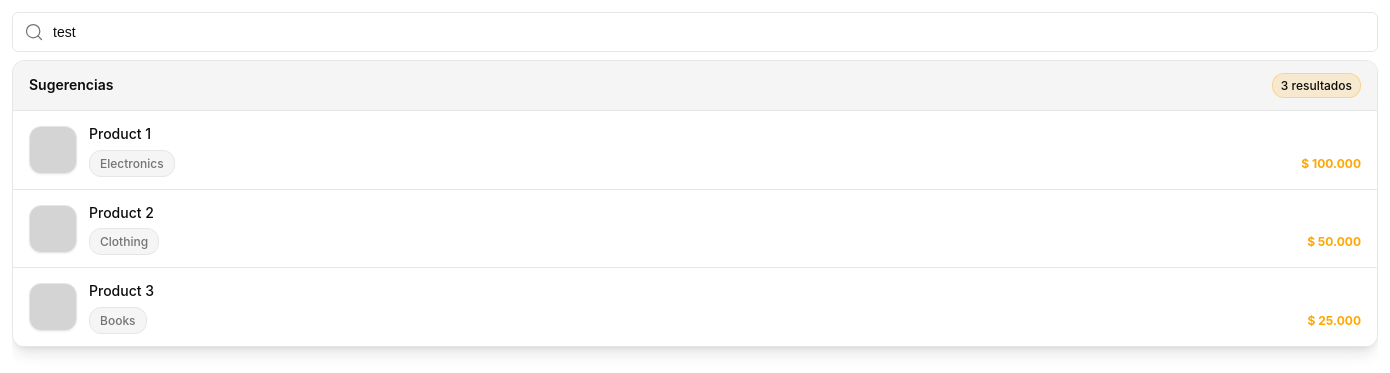
Test: SearchWithSuggestions Component › Suggestion Click › hides suggestions after clicking a suggestion
The width and height of the screenshot is (1390, 373).
Click the text "Product 1": (120, 134) [89,125,151,142]
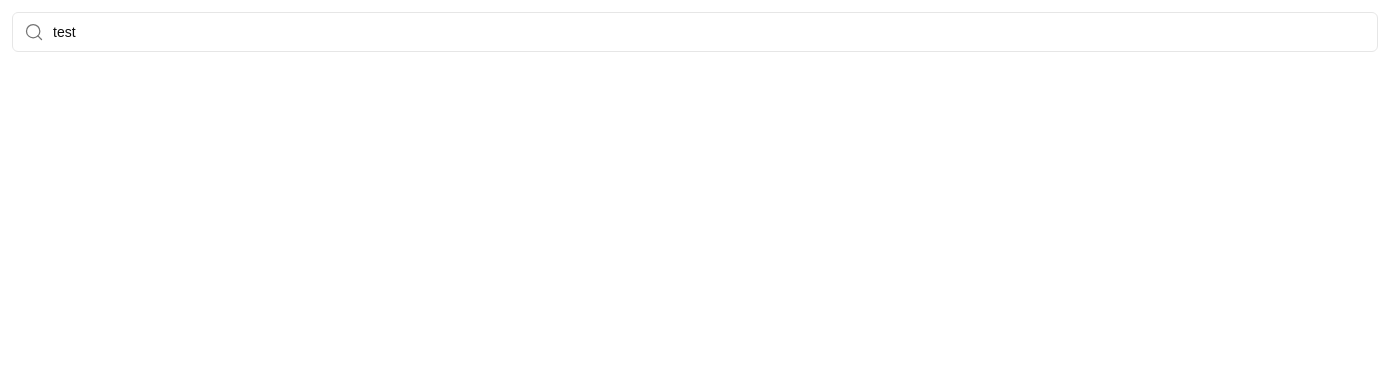
Check: the text "Sugerencias" is gone
